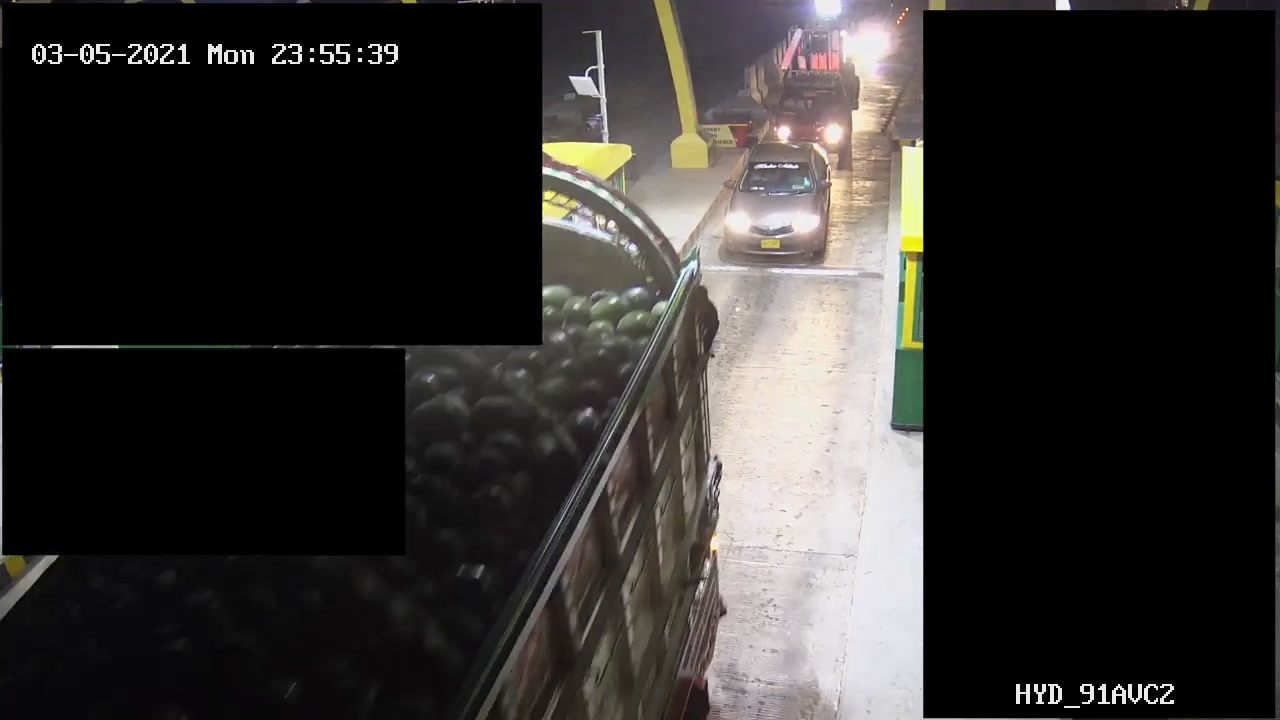F1: (717, 137, 834, 263)
